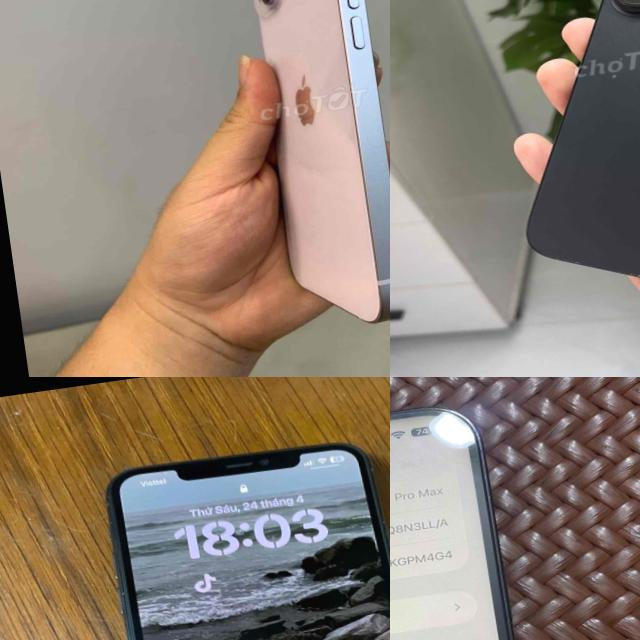gen_11: (87, 428, 390, 640)
gen_14: (208, 0, 390, 338), (390, 382, 592, 640)
gen_16: (527, 0, 640, 277)
